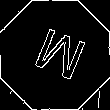M_S: (24, 23, 86, 87)
